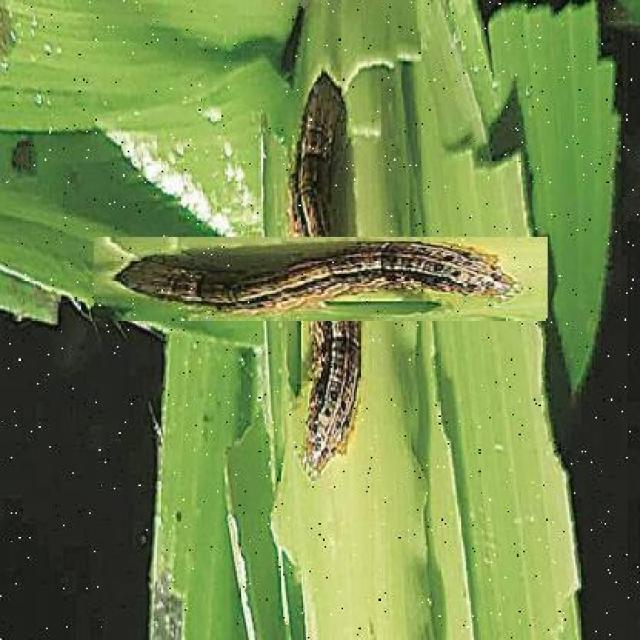Plaga: (187, 144, 458, 415)
